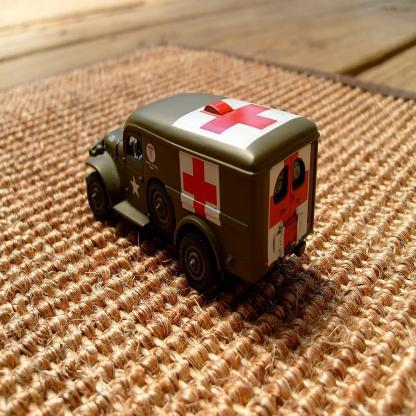Ambulance - v1 Ambulance last generate: (83, 93, 321, 293)
